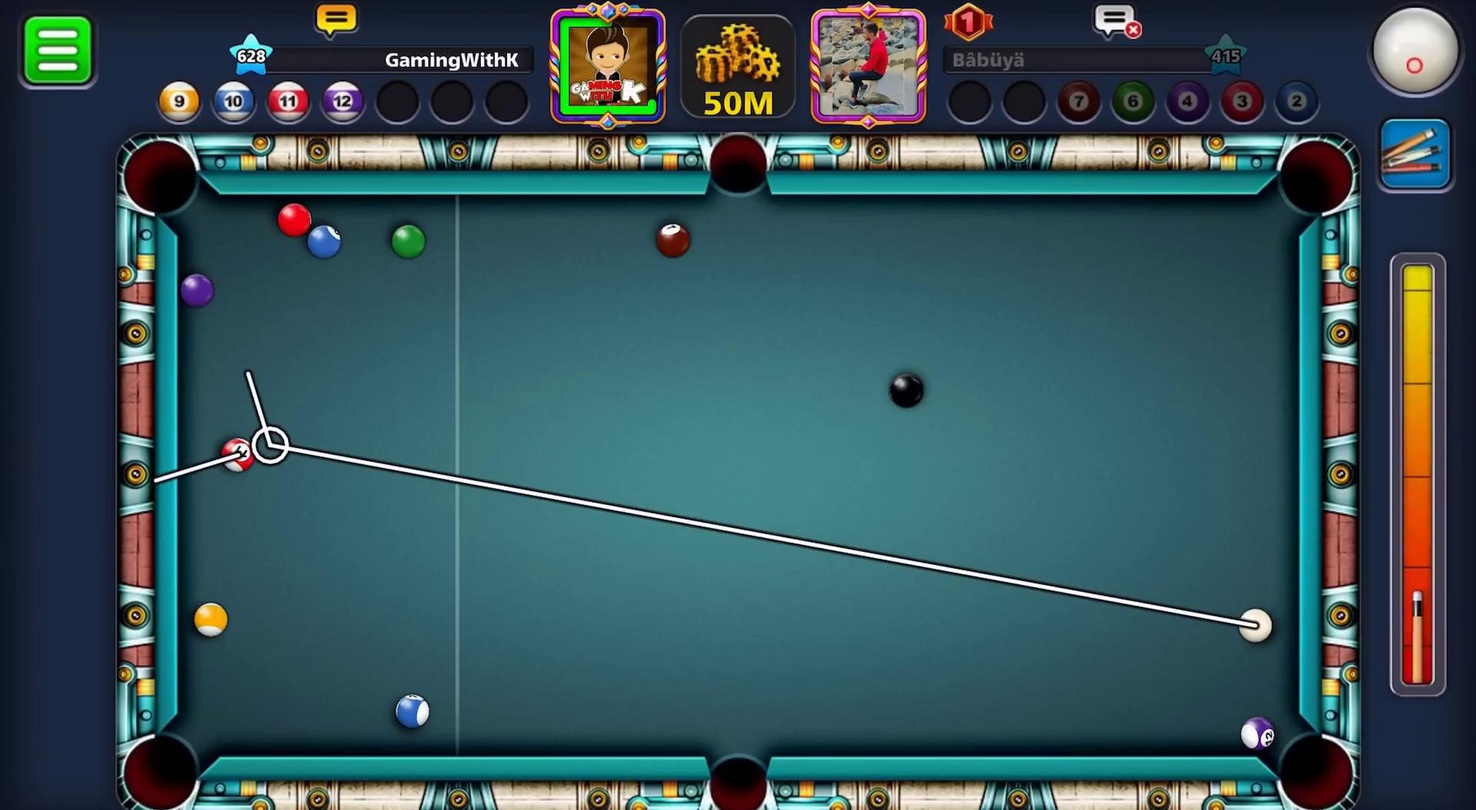Ball: (645, 218, 696, 261), (882, 368, 929, 413), (271, 198, 322, 239), (1234, 712, 1282, 755), (177, 266, 217, 311), (189, 599, 230, 642), (390, 692, 433, 733), (218, 434, 258, 475), (386, 222, 426, 259)
Force: (1387, 255, 1454, 700)
Guideline: (144, 360, 1260, 640)
Hole: (111, 122, 220, 232), (103, 719, 220, 809), (1265, 126, 1364, 231), (1258, 714, 1363, 809), (695, 122, 788, 215), (690, 739, 783, 809)
Play_Area: (184, 194, 1294, 754)
Spin: (1361, 0, 1475, 111)
White: (1236, 605, 1281, 651)
